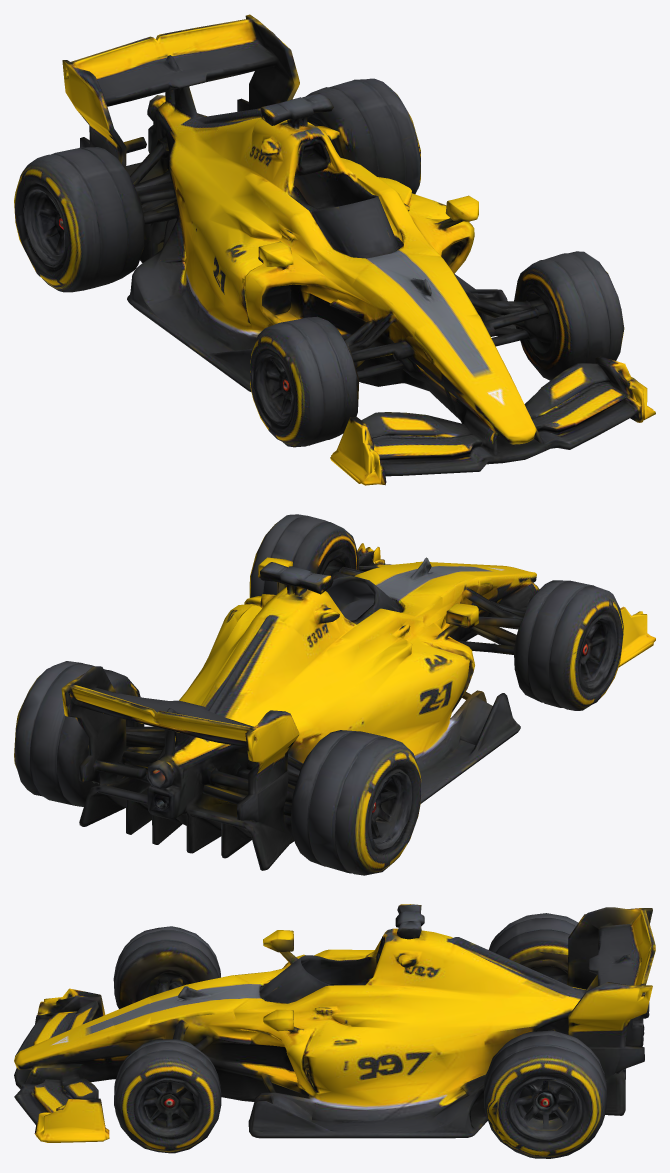
File: custom-racer-03.glb
3 views of the same model, one above another, from view 1: azimuth 30°, elevation 25°; view 2: azimuth 150°, elevation 25°; view 3: azimuth 270°, elevation 25° (orthographic). The views are drawn at different scales.
Visible parts, largest first — view 1: custom-03-source-static-mesh; view 2: custom-03-source-static-mesh; view 3: custom-03-source-static-mesh.
Boxes of the visible parts, x1,y1,x2,y2 form: custom-03-source-static-mesh: (14,14,655,485); custom-03-source-static-mesh: (14,514,655,875); custom-03-source-static-mesh: (14,904,655,1158).
Bounding box in the file's own units: 2.62 × 1.45 × 4.8.
1 material, 1 textured.
